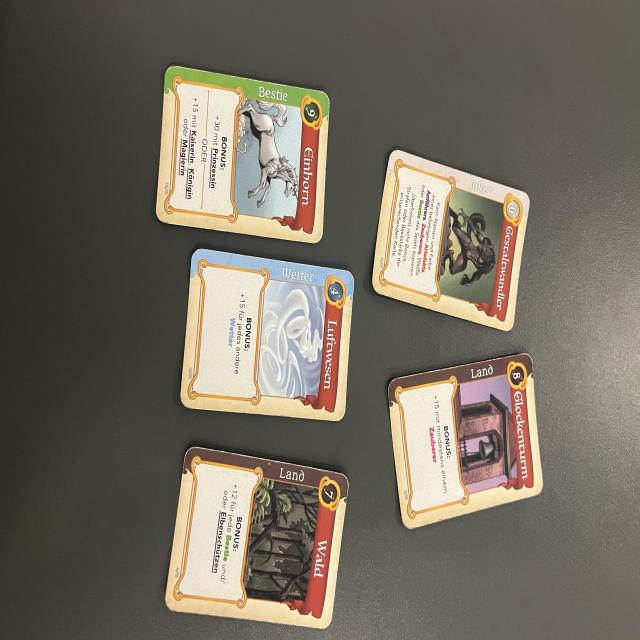Air Elemental: (178, 243, 361, 424)
Clock Tower: (383, 349, 548, 534)
Forest: (156, 437, 354, 634)
Shapeshifter: (373, 144, 531, 336)
Unicorn: (151, 55, 335, 250)
